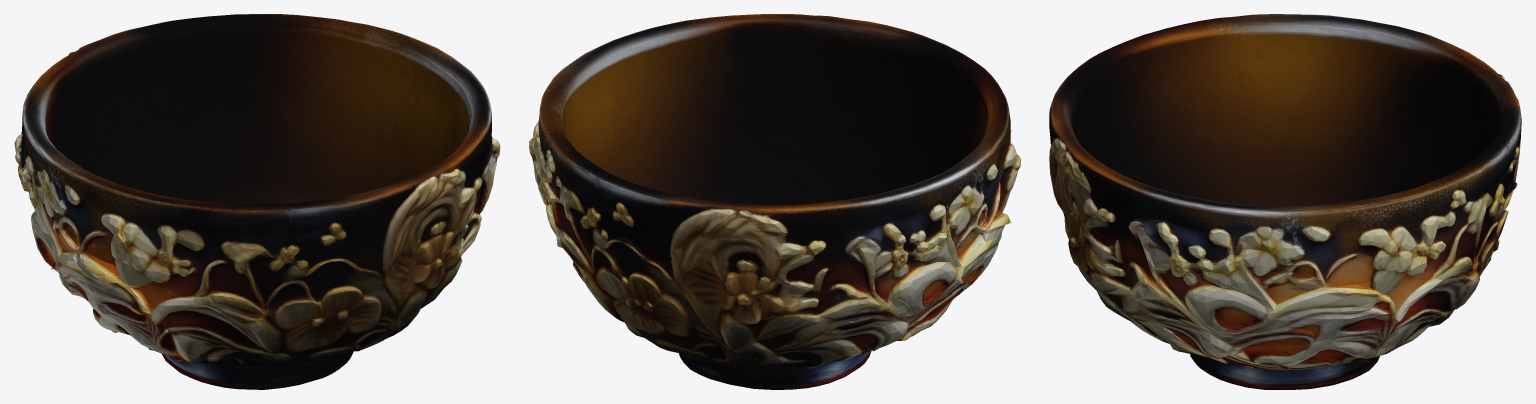
Rendered from ceramic-hand-carved-bowl-japanese.jpeg.glb.
3 views of the same model, side by side, from view 1: azimuth 30°, elevation 25°; view 2: azimuth 150°, elevation 25°; view 3: azimuth 270°, elevation 25° (orthographic).
Visible parts, largest first — view 1: world; view 2: world; view 3: world.
Boxes of the visible parts, box(x1,y1,x2,y2) form: world: box(14, 14, 500, 389); world: box(529, 14, 1020, 389); world: box(1049, 14, 1521, 389).
Bounding box in the file's own units: 0.9978 × 0.5591 × 0.9988.
1 material, 1 textured.
